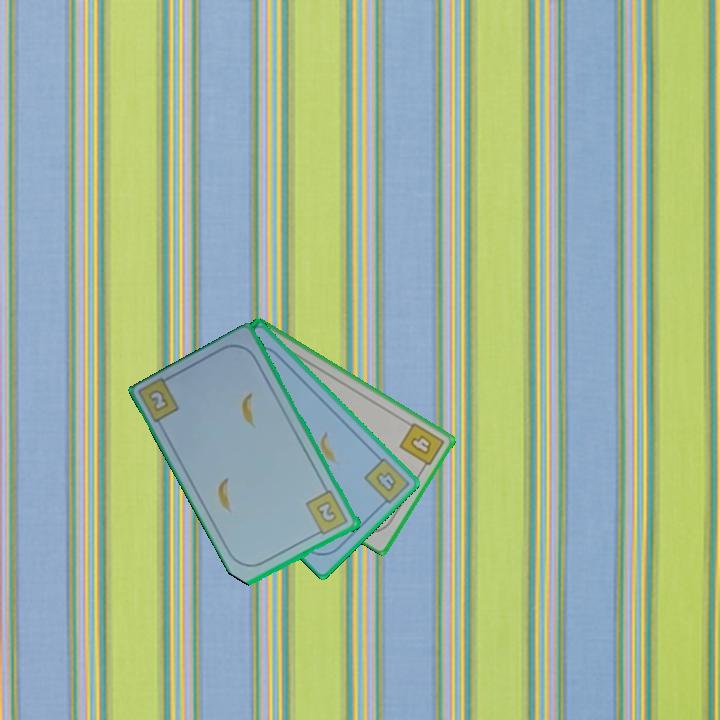2b: (303, 487, 351, 539), (145, 386, 172, 415)
4b: (396, 419, 447, 474), (361, 454, 410, 510)
